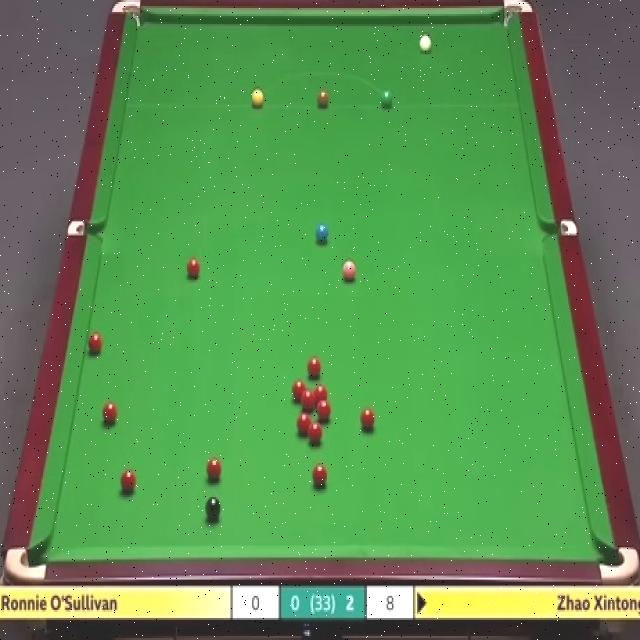black-ball: (205, 496, 223, 518)
blue-ball: (315, 221, 329, 247)
brown-ball: (316, 89, 329, 108)
green-ball: (381, 89, 394, 108)
pink-ball: (342, 262, 357, 284)
red-ball: (86, 331, 105, 358), (116, 468, 136, 493), (100, 398, 117, 424), (312, 462, 329, 488), (291, 377, 308, 402), (305, 356, 324, 378), (359, 408, 376, 432), (207, 456, 223, 481), (296, 412, 312, 436), (300, 390, 316, 411), (314, 385, 328, 408), (308, 422, 322, 445), (186, 260, 201, 278), (310, 400, 324, 418)
white-ball: (420, 34, 432, 52)
yellow-ball: (251, 89, 264, 108)
